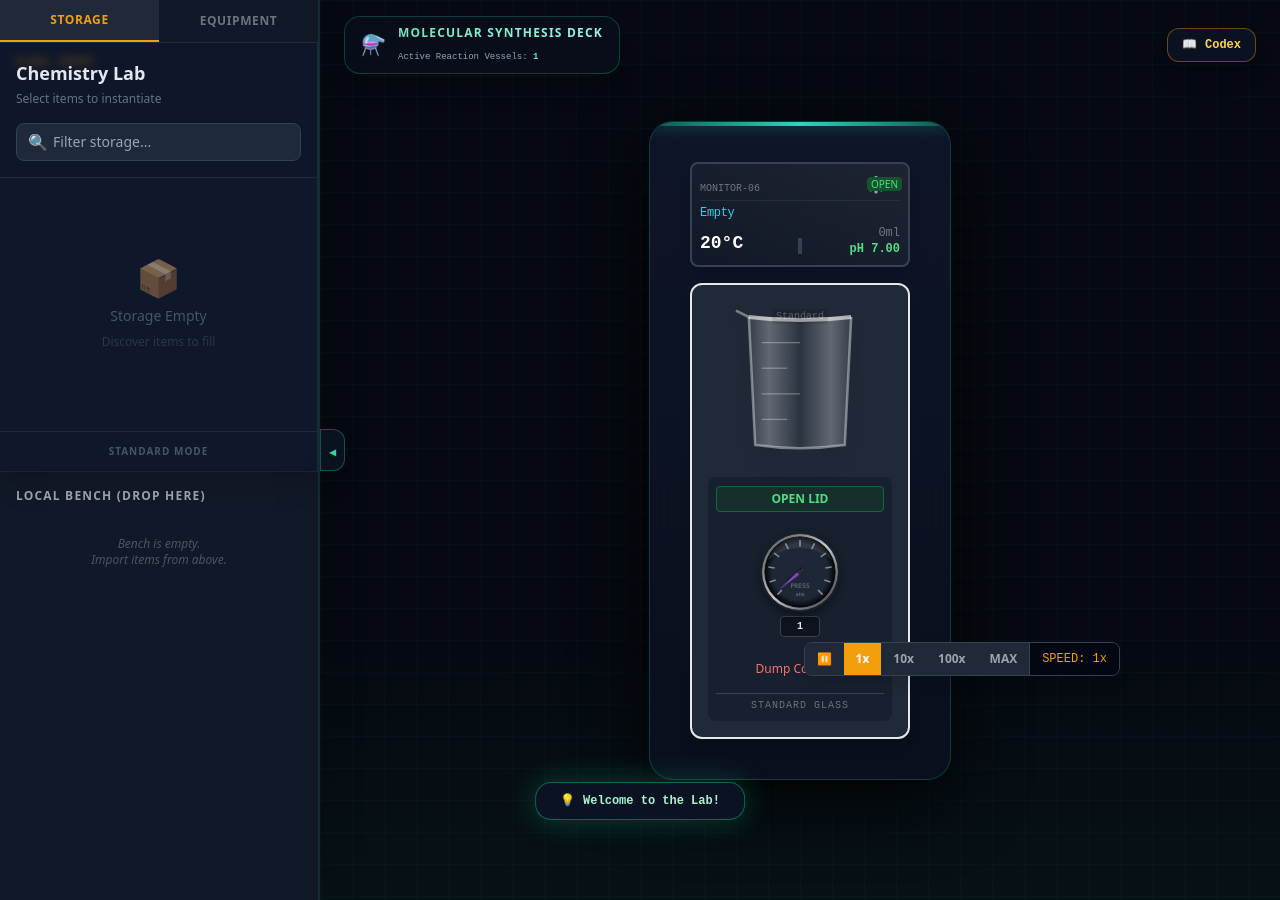
UI Interactions › Chemistry Lab UI › should toggle Pantry Sidebar visibility
Note: Click to close
Step 1. Click the button named "Close Sidebar" → {"x": 333, "y": 450}, box [320,429,345,471]
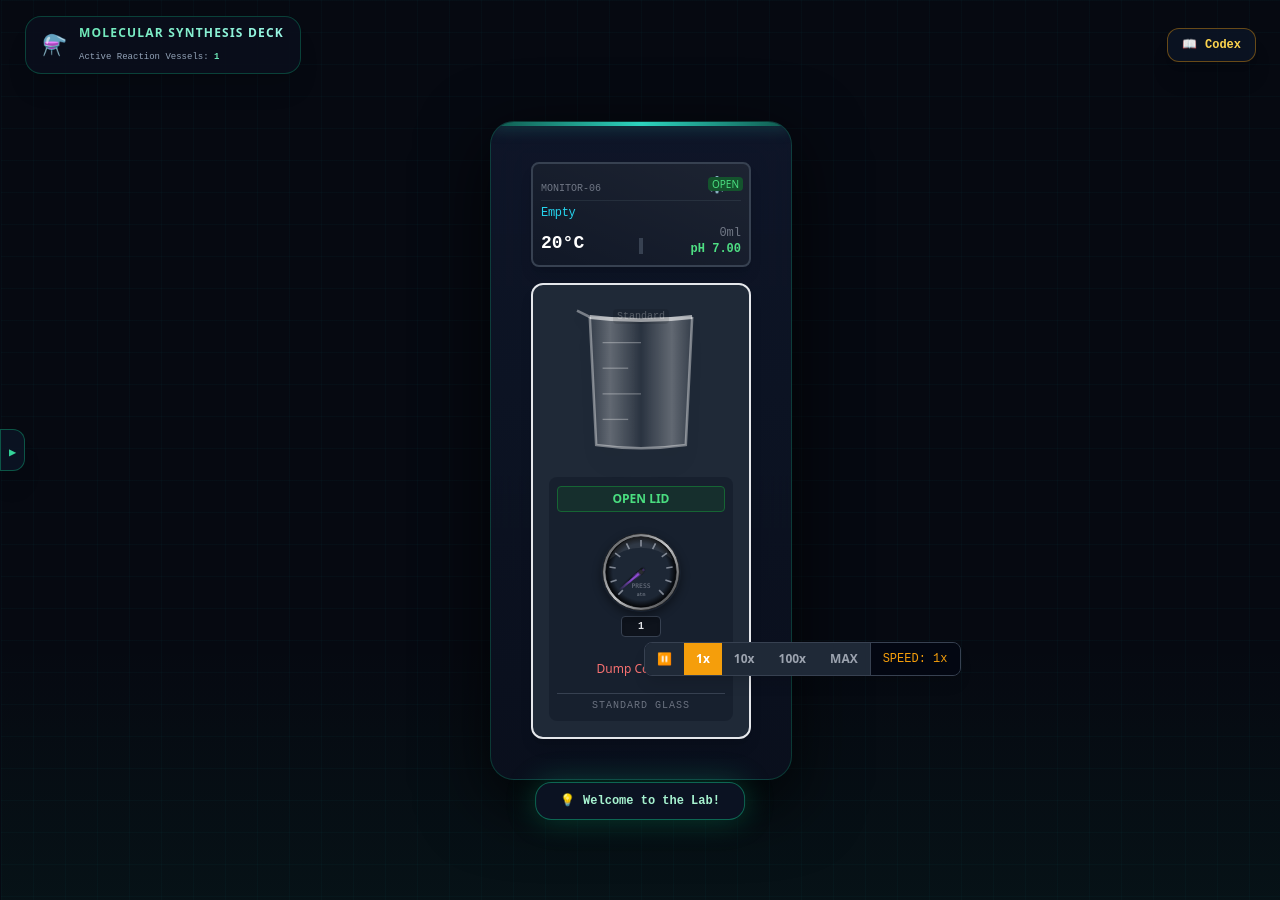
Result: the button named "Open Sidebar" is shown at [0,429,25,471]
